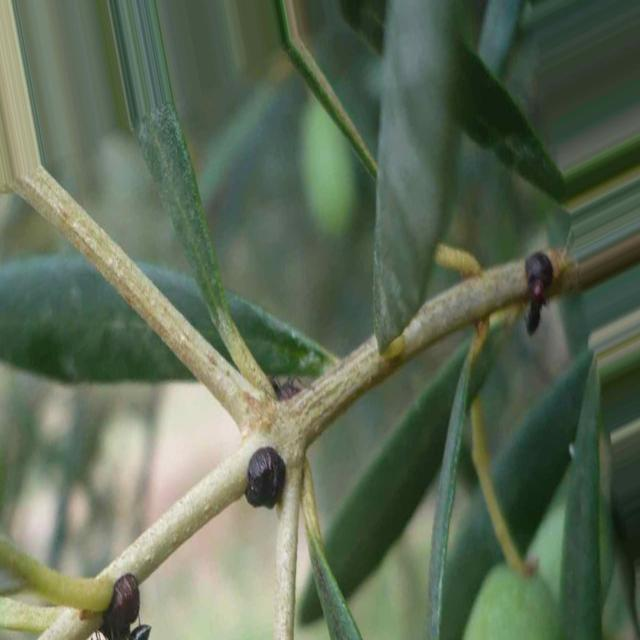BlackScale: (100, 574, 140, 640), (244, 446, 286, 508), (525, 251, 556, 306)
